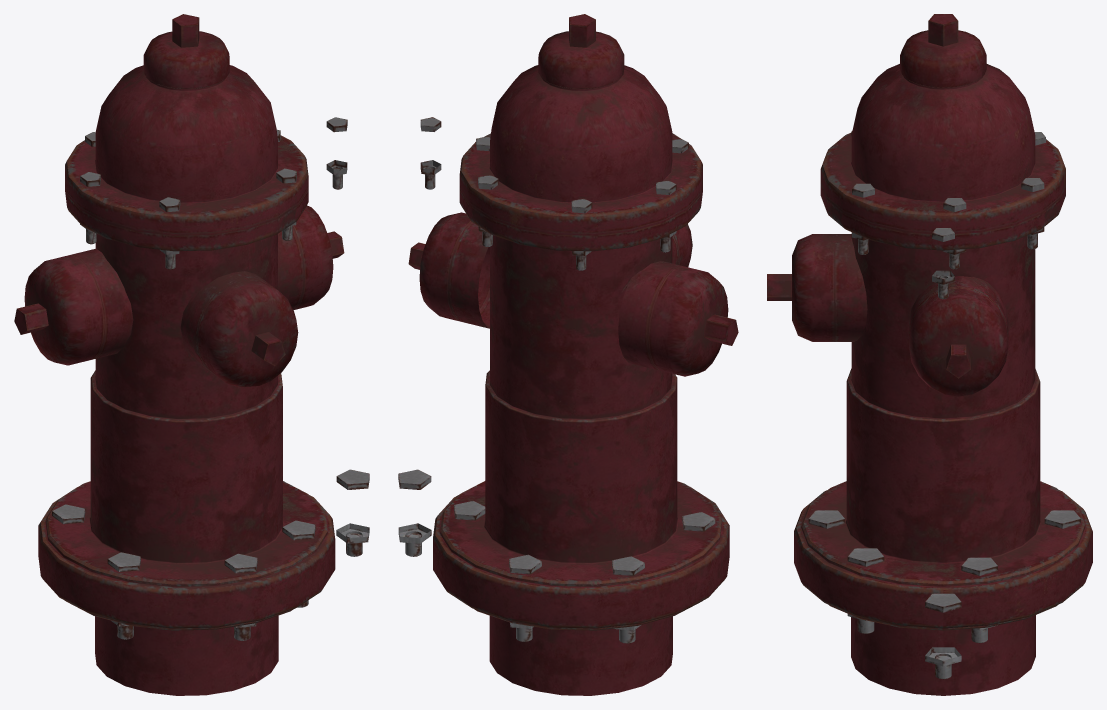
File: fireplug_3fe12642.glb
3 renders of one model, left to right at view 1: azimuth 30°, elevation 25°; view 2: azimuth 150°, elevation 25°; view 3: azimuth 270°, elevation 25°, orthographic.
Visible parts, largest first — view 1: LP_Hydrant; view 2: LP_Hydrant; view 3: LP_Hydrant.
Part boxes in pixels (x1,y1,x2,y2): LP_Hydrant: [14, 14, 369, 695]; LP_Hydrant: [398, 14, 738, 695]; LP_Hydrant: [767, 14, 1092, 695].
Size of the model in its own units: 1.12 by 2 by 0.9255.
1 material, 1 textured.
